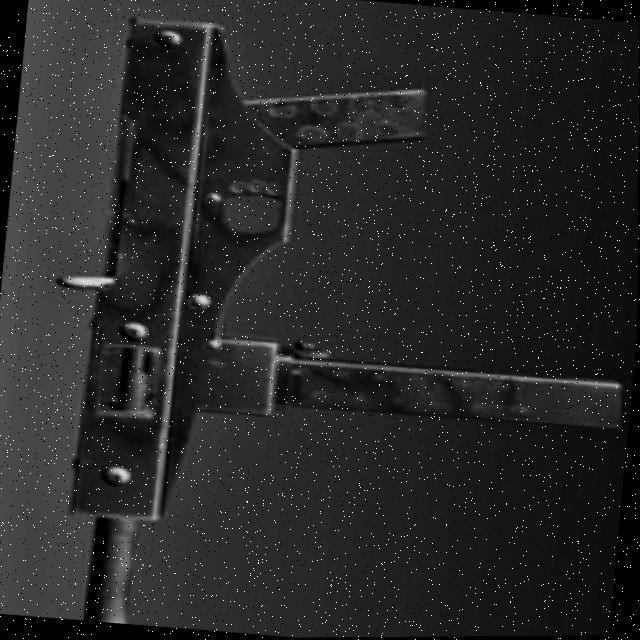firearm: (20, 6, 640, 640)
